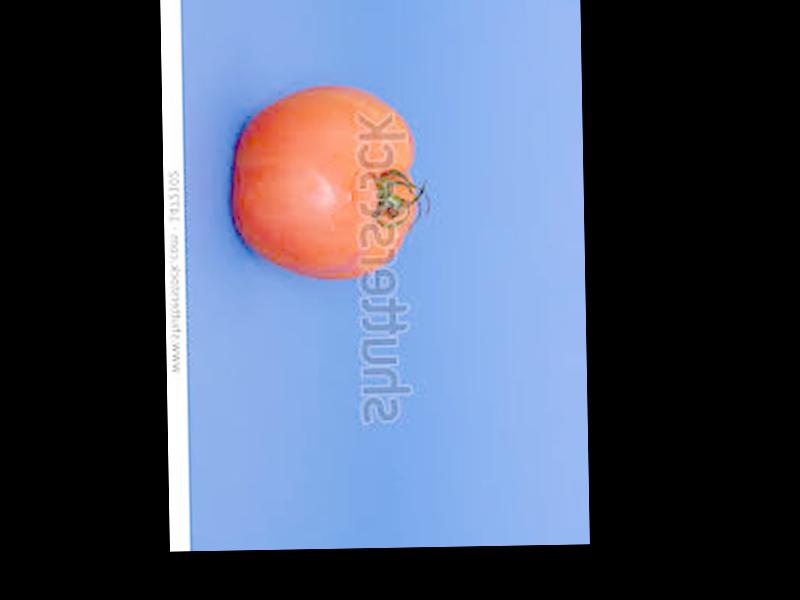Tomato: (232, 80, 419, 278)
